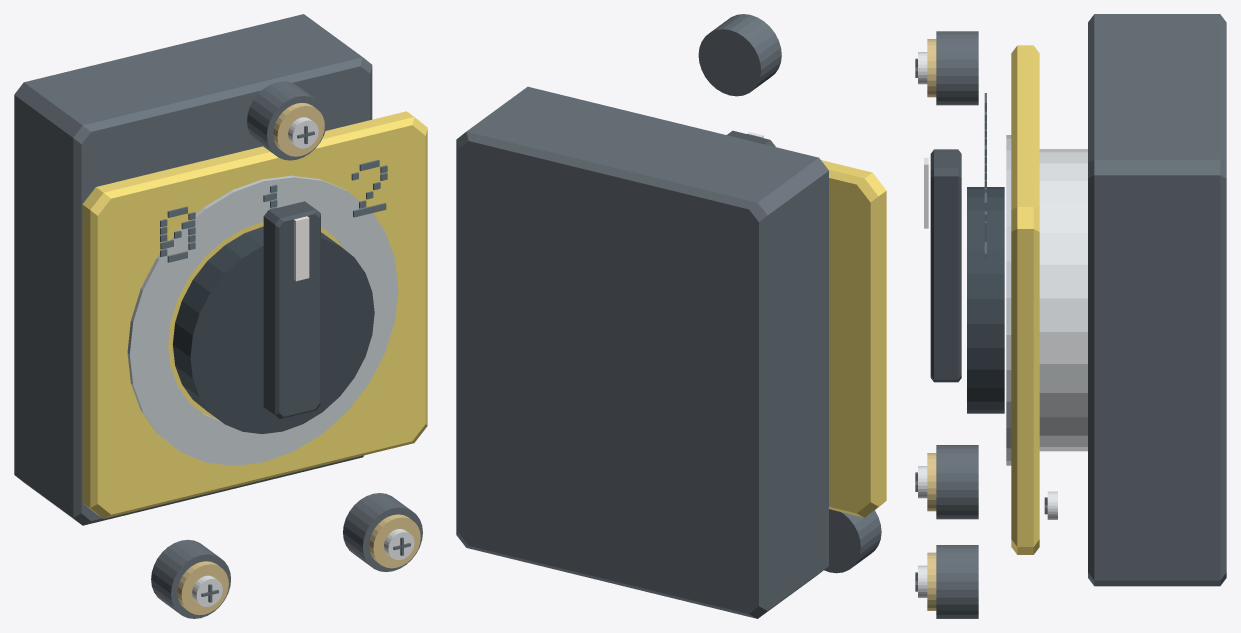
Rendered from rotarySwitch.glb.
3 renders of one model, left to right at view 1: azimuth 30°, elevation 25°; view 2: azimuth 150°, elevation 25°; view 3: azimuth 270°, elevation 25°, orthographic. The views are drawn at different scales.
Parts seen in each view (by area): view 1: rotarySwitch-detailed; view 2: rotarySwitch-detailed; view 3: rotarySwitch-detailed.
Boxes of the visible parts, x1=… form: rotarySwitch-detailed: x1=14, y1=14, x2=427, y2=618; rotarySwitch-detailed: x1=456, y1=14, x2=886, y2=618; rotarySwitch-detailed: x1=915, y1=14, x2=1226, y2=618.
Bounding box in the file's own units: 1.76 × 2.48 × 1.32.
